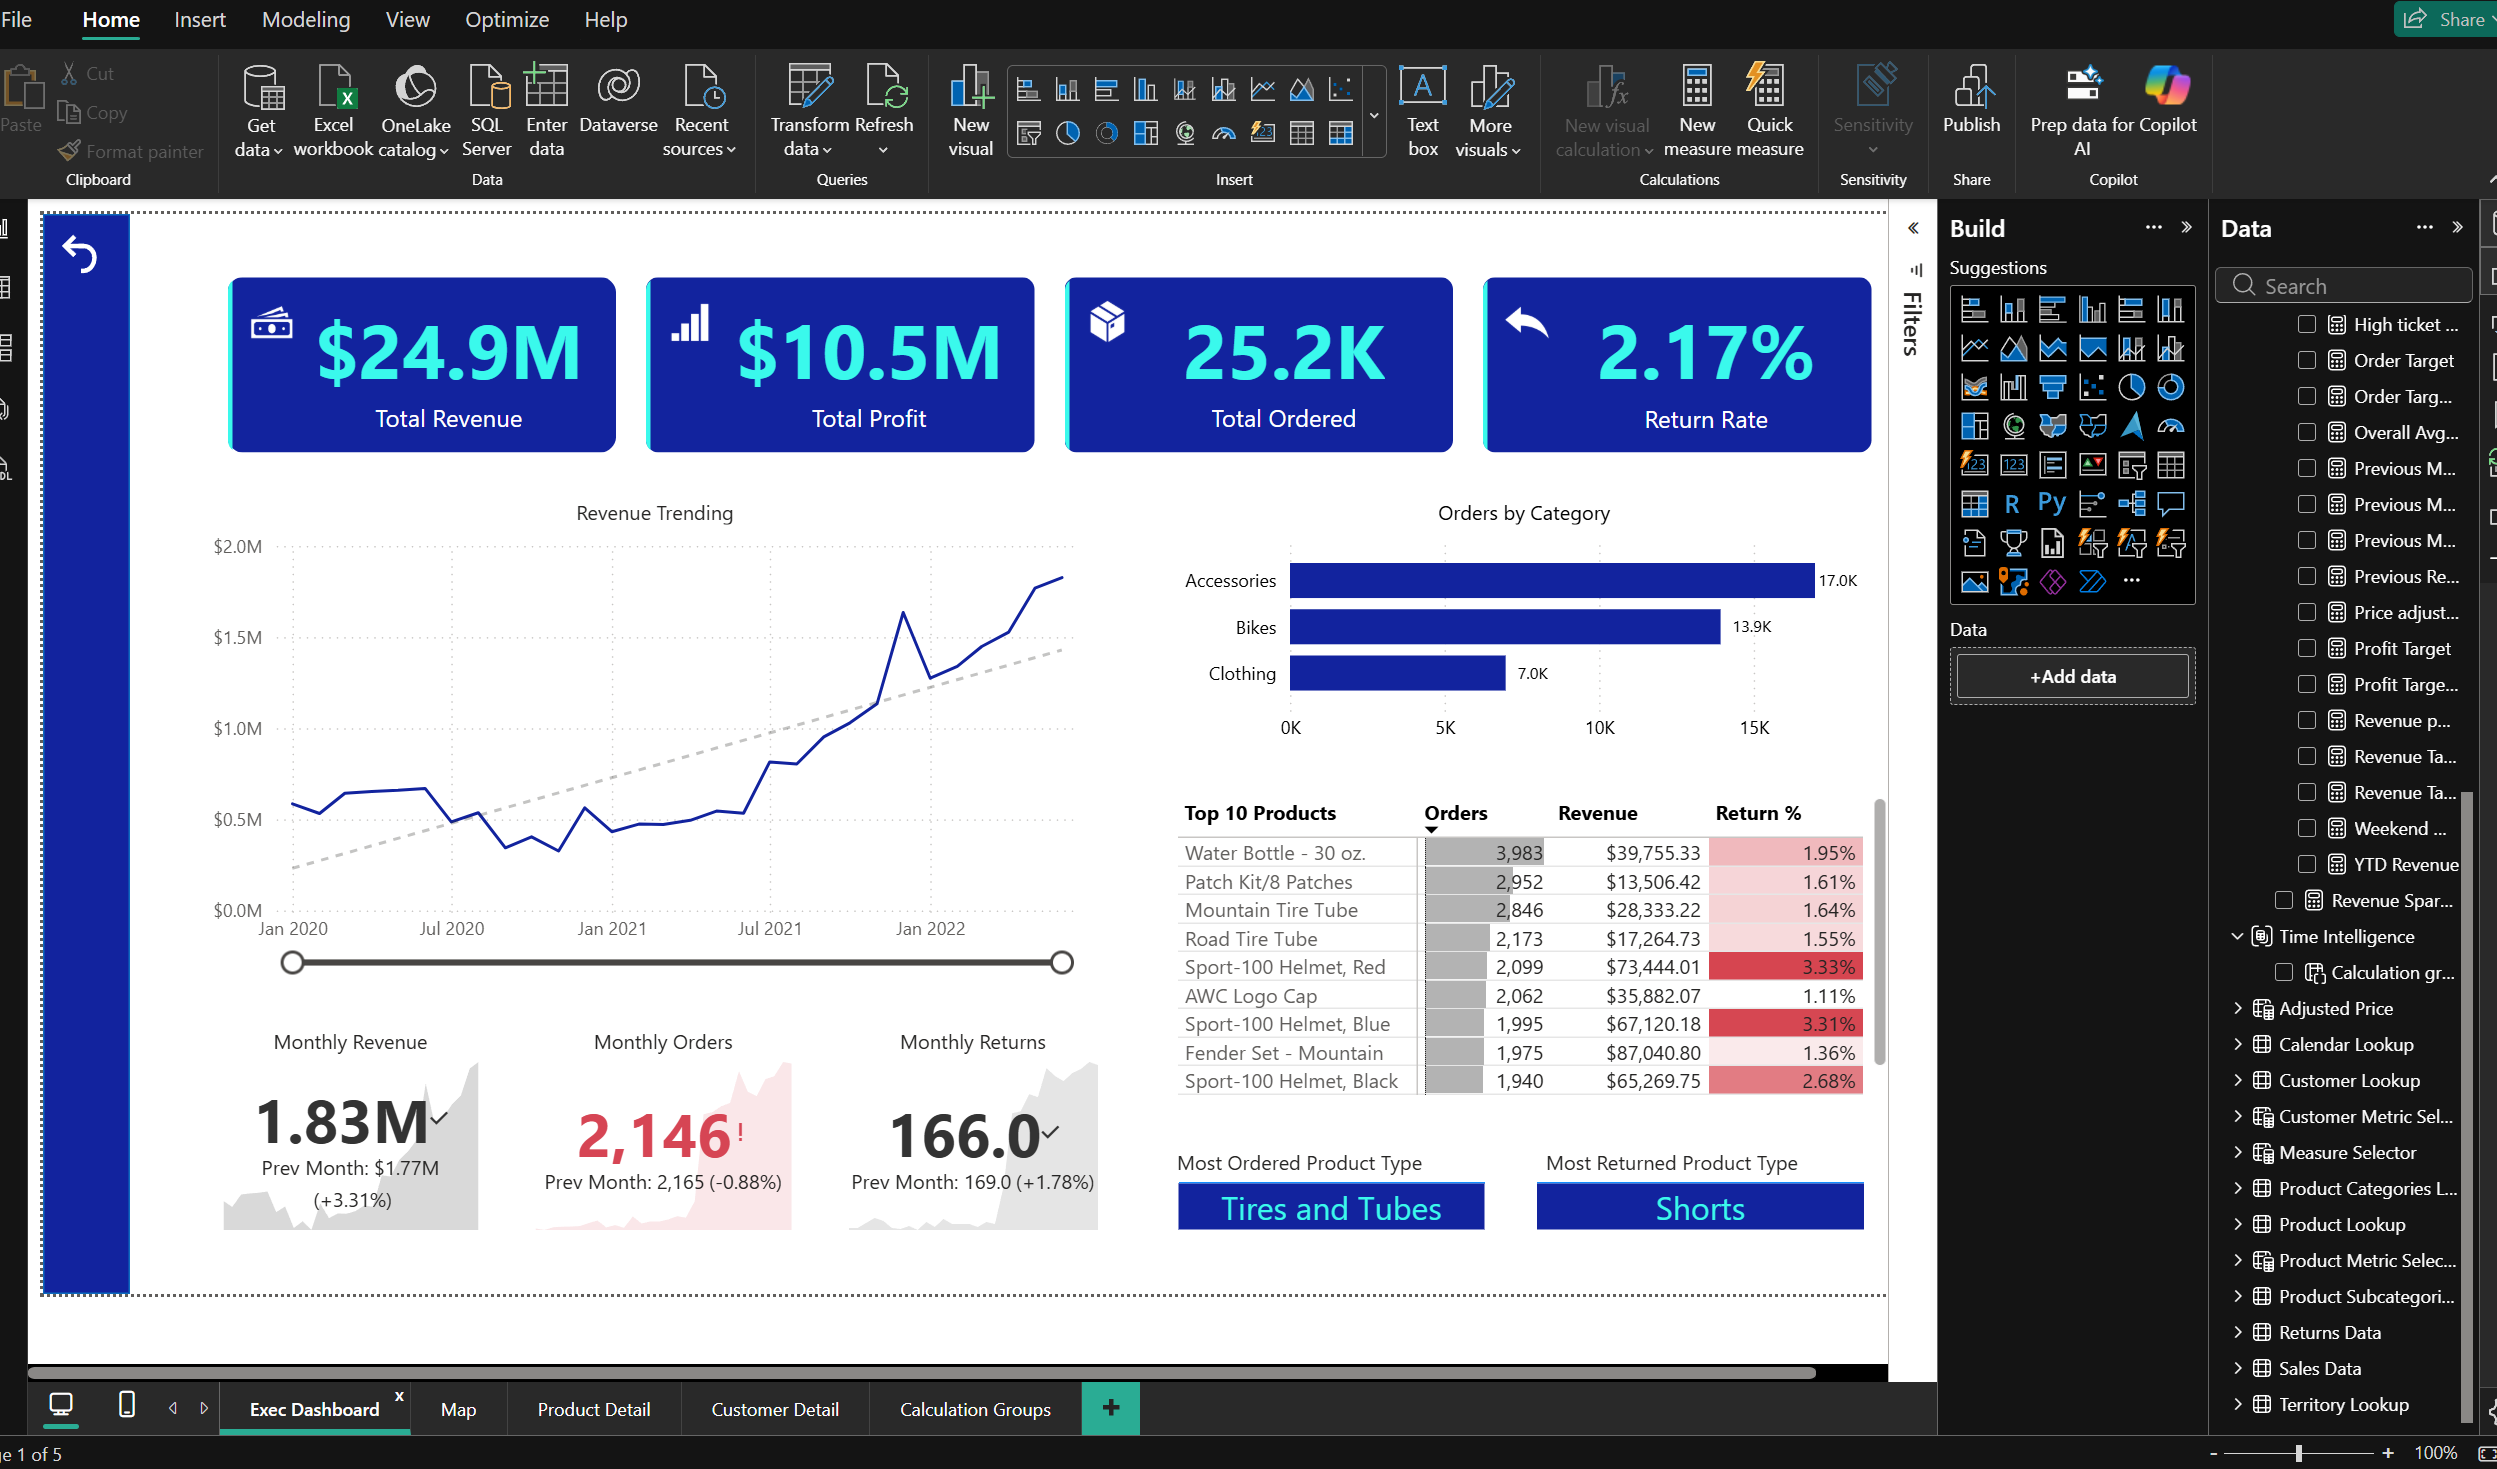

The page's visual inventory and layout, read from the dashboard file:
{"tool":"powerbi","page":{"name":"Exec Dashboard","canvas":[1280,720],"ordinal":0},"visuals":[{"type":"shape","title":"Left Nav Background","box":[0,0,58,720],"z":0},{"type":"group","title":"Q/A","box":[107.9,150.3,1126.1,569.7],"z":1000},{"type":"lineChart","title":"Revenue Trending","fields":{"Y":["Measure Table.Total Revenue"],"Category":["Calendar Lookup.Year","Calendar Lookup.Start of Quarter","Calendar Lookup.Start of Month"]},"box":[108,189,600,321],"z":2000},{"type":"kpi","title":"Monthly Revenue","fields":{"Indicator":["Measure Table.Total Revenue"],"TrendLine":["Calendar Lookup.Start of Month"],"Goal":["Measure Table.Previous Month Revenue"]},"box":[115,542,180,140],"z":3000},{"type":"kpi","title":"Monthly Orders","fields":{"TrendLine":["Calendar Lookup.Start of Month"],"Indicator":["Measure Table.Total Ordered"],"Goal":["Measure Table.Previous Month Orders"]},"box":[323,542,181,140],"z":4000},{"type":"kpi","title":"Monthly Returns","fields":{"TrendLine":["Calendar Lookup.Start of Month"],"Indicator":["Measure Table.Total Returns"],"Goal":["Measure Table.Previous Returns"]},"box":[532,542,176,140],"z":5000},{"type":"clusteredBarChart","title":"Orders by Category","fields":{"Category":["Product Categories Lookup.CategoryName"],"Y":["Measure Table.Total Ordered"]},"box":[751,189,473,171],"z":6000},{"type":"pivotTable","fields":{"Rows":["Product Lookup.ProductName"],"Values":["Measure Table.Total Ordered","Measure Table.Total Revenue","Measure Table.Return Rate"]},"box":[751,384,483,208],"z":7000},{"type":"tableEx","fields":{"Values":["Product Subcategories Lookup.SubcategoryName"]},"box":[751,617,224,81],"z":8000},{"type":"textbox","box":[751,617,194,30],"z":9000},{"type":"tableEx","fields":{"Values":["Product Subcategories Lookup.SubcategoryName"]},"box":[990,617,238,81],"z":10000},{"type":"textbox","box":[997,617,180,30],"z":11000},{"type":"actionButton","box":[7,9,44,35],"z":12000},{"type":"cardVisual","fields":{"Data":["Measure Table.Total Revenue","Measure Table.Total Profit","Measure Table.Total Ordered","Measure Table.Return Rate"]},"box":[108,27,1126,147],"z":13000}]}

Visuals, with their boxes on the page's 1280x720 design canvas (x1, y1, x2, y2). These are canvas units, not pixel positions in the 2497x1469 screenshot, which may show the page scaled, cropped or inside an application window:
"Left Nav Background" shape: l=0, t=0, r=58, b=720
"Q/A" group: l=108, t=150, r=1234, b=720
"Revenue Trending" lineChart: l=108, t=189, r=708, b=510
"Monthly Revenue" kpi: l=115, t=542, r=295, b=682
"Monthly Orders" kpi: l=323, t=542, r=504, b=682
"Monthly Returns" kpi: l=532, t=542, r=708, b=682
"Orders by Category" clusteredBarChart: l=751, t=189, r=1224, b=360
pivotTable - Product Lookup.ProductName x Measure Table.Total Ordered: l=751, t=384, r=1234, b=592
tableEx - Product Subcategories Lookup.SubcategoryName: l=751, t=617, r=975, b=698
textbox: l=751, t=617, r=945, b=647
tableEx - Product Subcategories Lookup.SubcategoryName: l=990, t=617, r=1228, b=698
textbox: l=997, t=617, r=1177, b=647
actionButton: l=7, t=9, r=51, b=44
cardVisual - Measure Table.Total Revenue x Measure Table.Total Profit: l=108, t=27, r=1234, b=174
